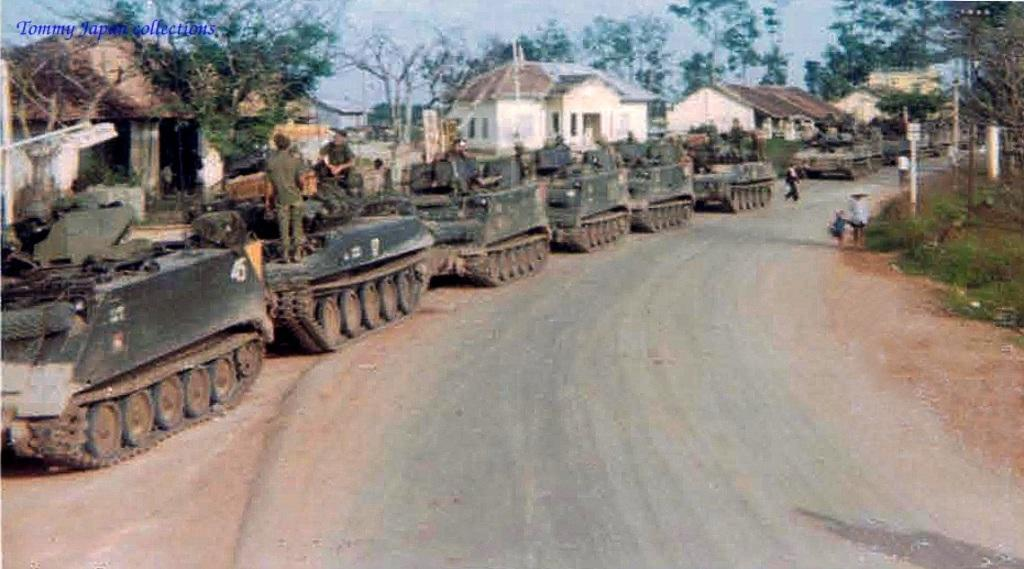Tank: (0, 193, 274, 475), (189, 169, 439, 350), (383, 135, 552, 282), (532, 136, 634, 250), (685, 121, 775, 210), (613, 136, 695, 232), (788, 124, 882, 179)
